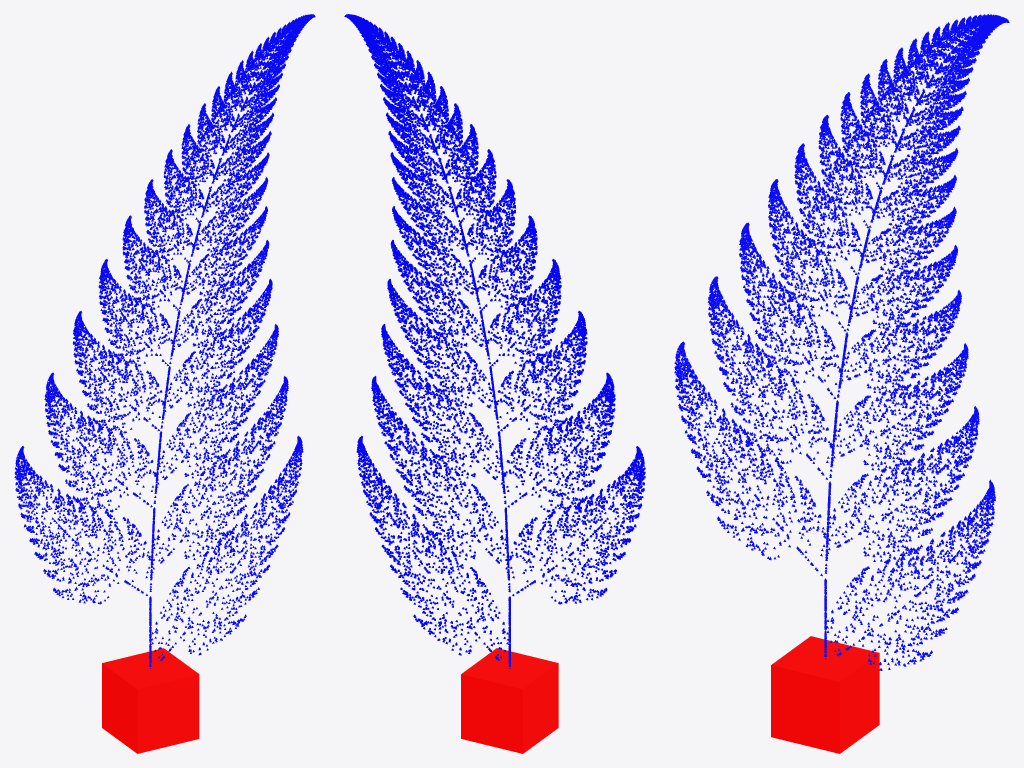
The model's file is BarnsleyFern.glb.
The picture shows the model from 3 angles, left to right: view 1: azimuth 30°, elevation 25°; view 2: azimuth 150°, elevation 25°; view 3: azimuth 330°, elevation 25°; orthographic projection. The views are drawn at different scales.
Bounding box in the file's own units: 4.88 × 10.52 × 1.
